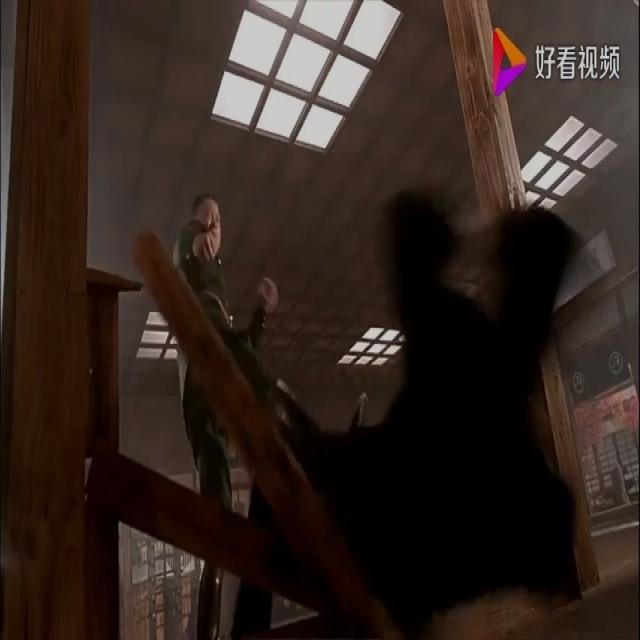fight: (236, 177, 584, 640), (176, 190, 366, 640)
